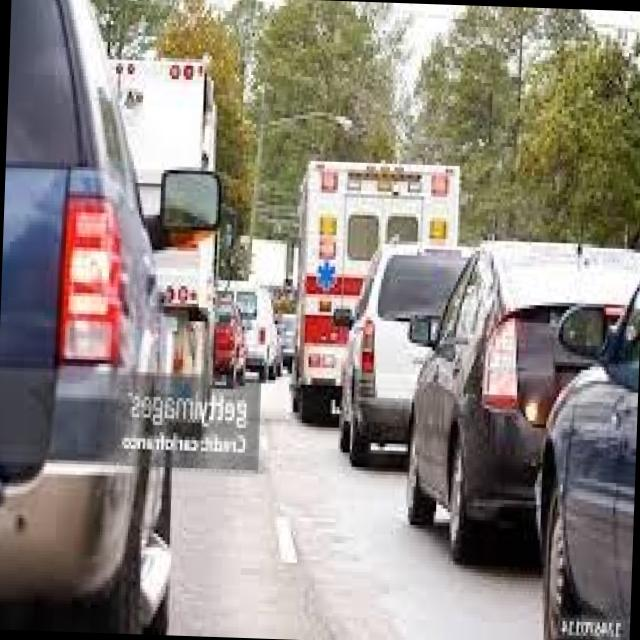ambulance: (285, 153, 378, 396), (292, 148, 467, 262)
